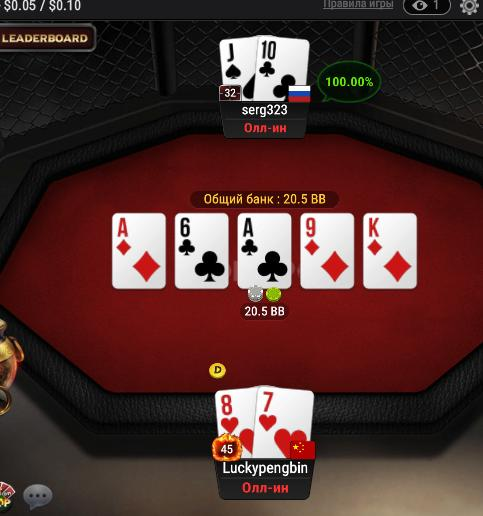10c: (256, 34, 309, 104)
6c: (176, 214, 229, 287)
7h: (255, 384, 314, 457)
8h: (214, 389, 255, 457)
9d: (301, 213, 354, 287)
Ac: (238, 213, 291, 289)
Ad: (112, 214, 164, 288)
Js: (218, 37, 256, 101)
Kd: (364, 213, 416, 288)
